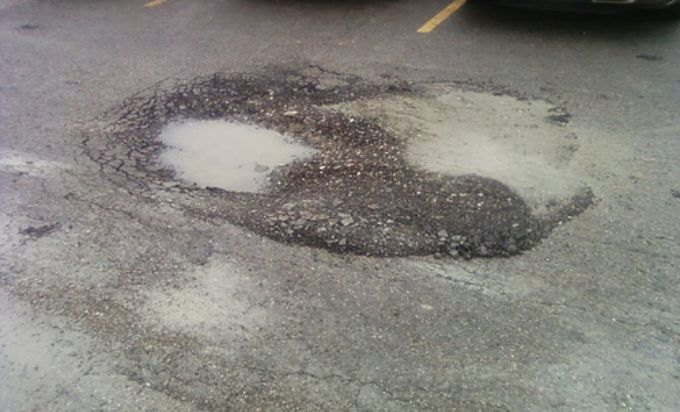pothole: (243, 169, 596, 262), (107, 97, 331, 205)
